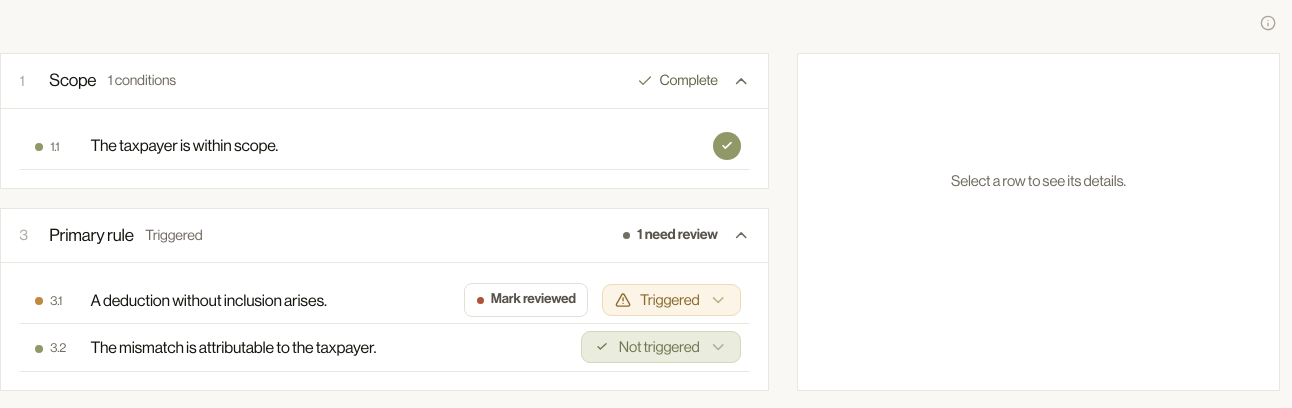
it: ChecklistV2 — Part B resting state + panel › opens the reasoning/source/visibility panel on row click
The image size is (1292, 408).
Click the text "A deduction without inclusion arises." at [209, 300], box [90,291,327,310]
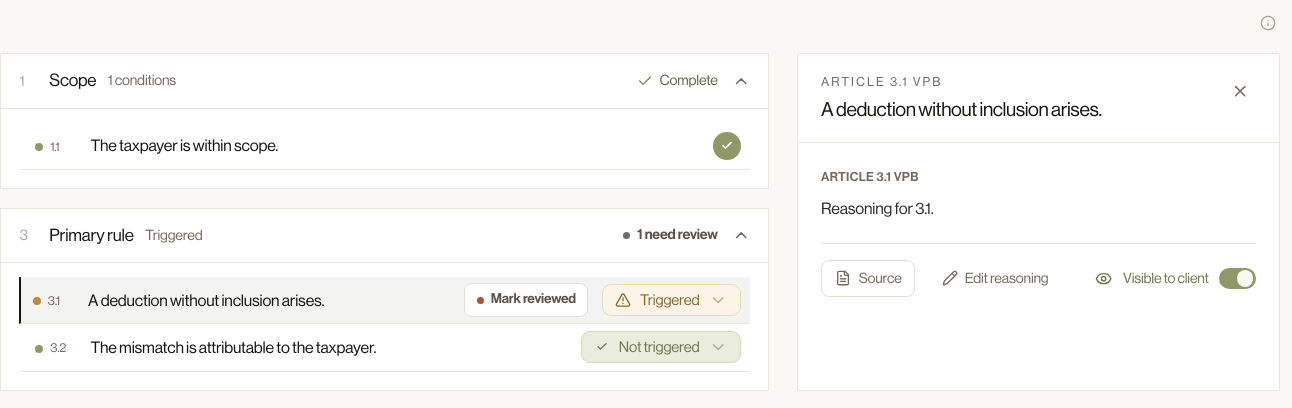
Check: the text "Reasoning for 3.1." is shown, box [821,198,934,218]
Check: the button "Source" is shown, box [821,260,915,297]
Check: the button "Edit reasoning" is shown, box [929,260,1061,297]
